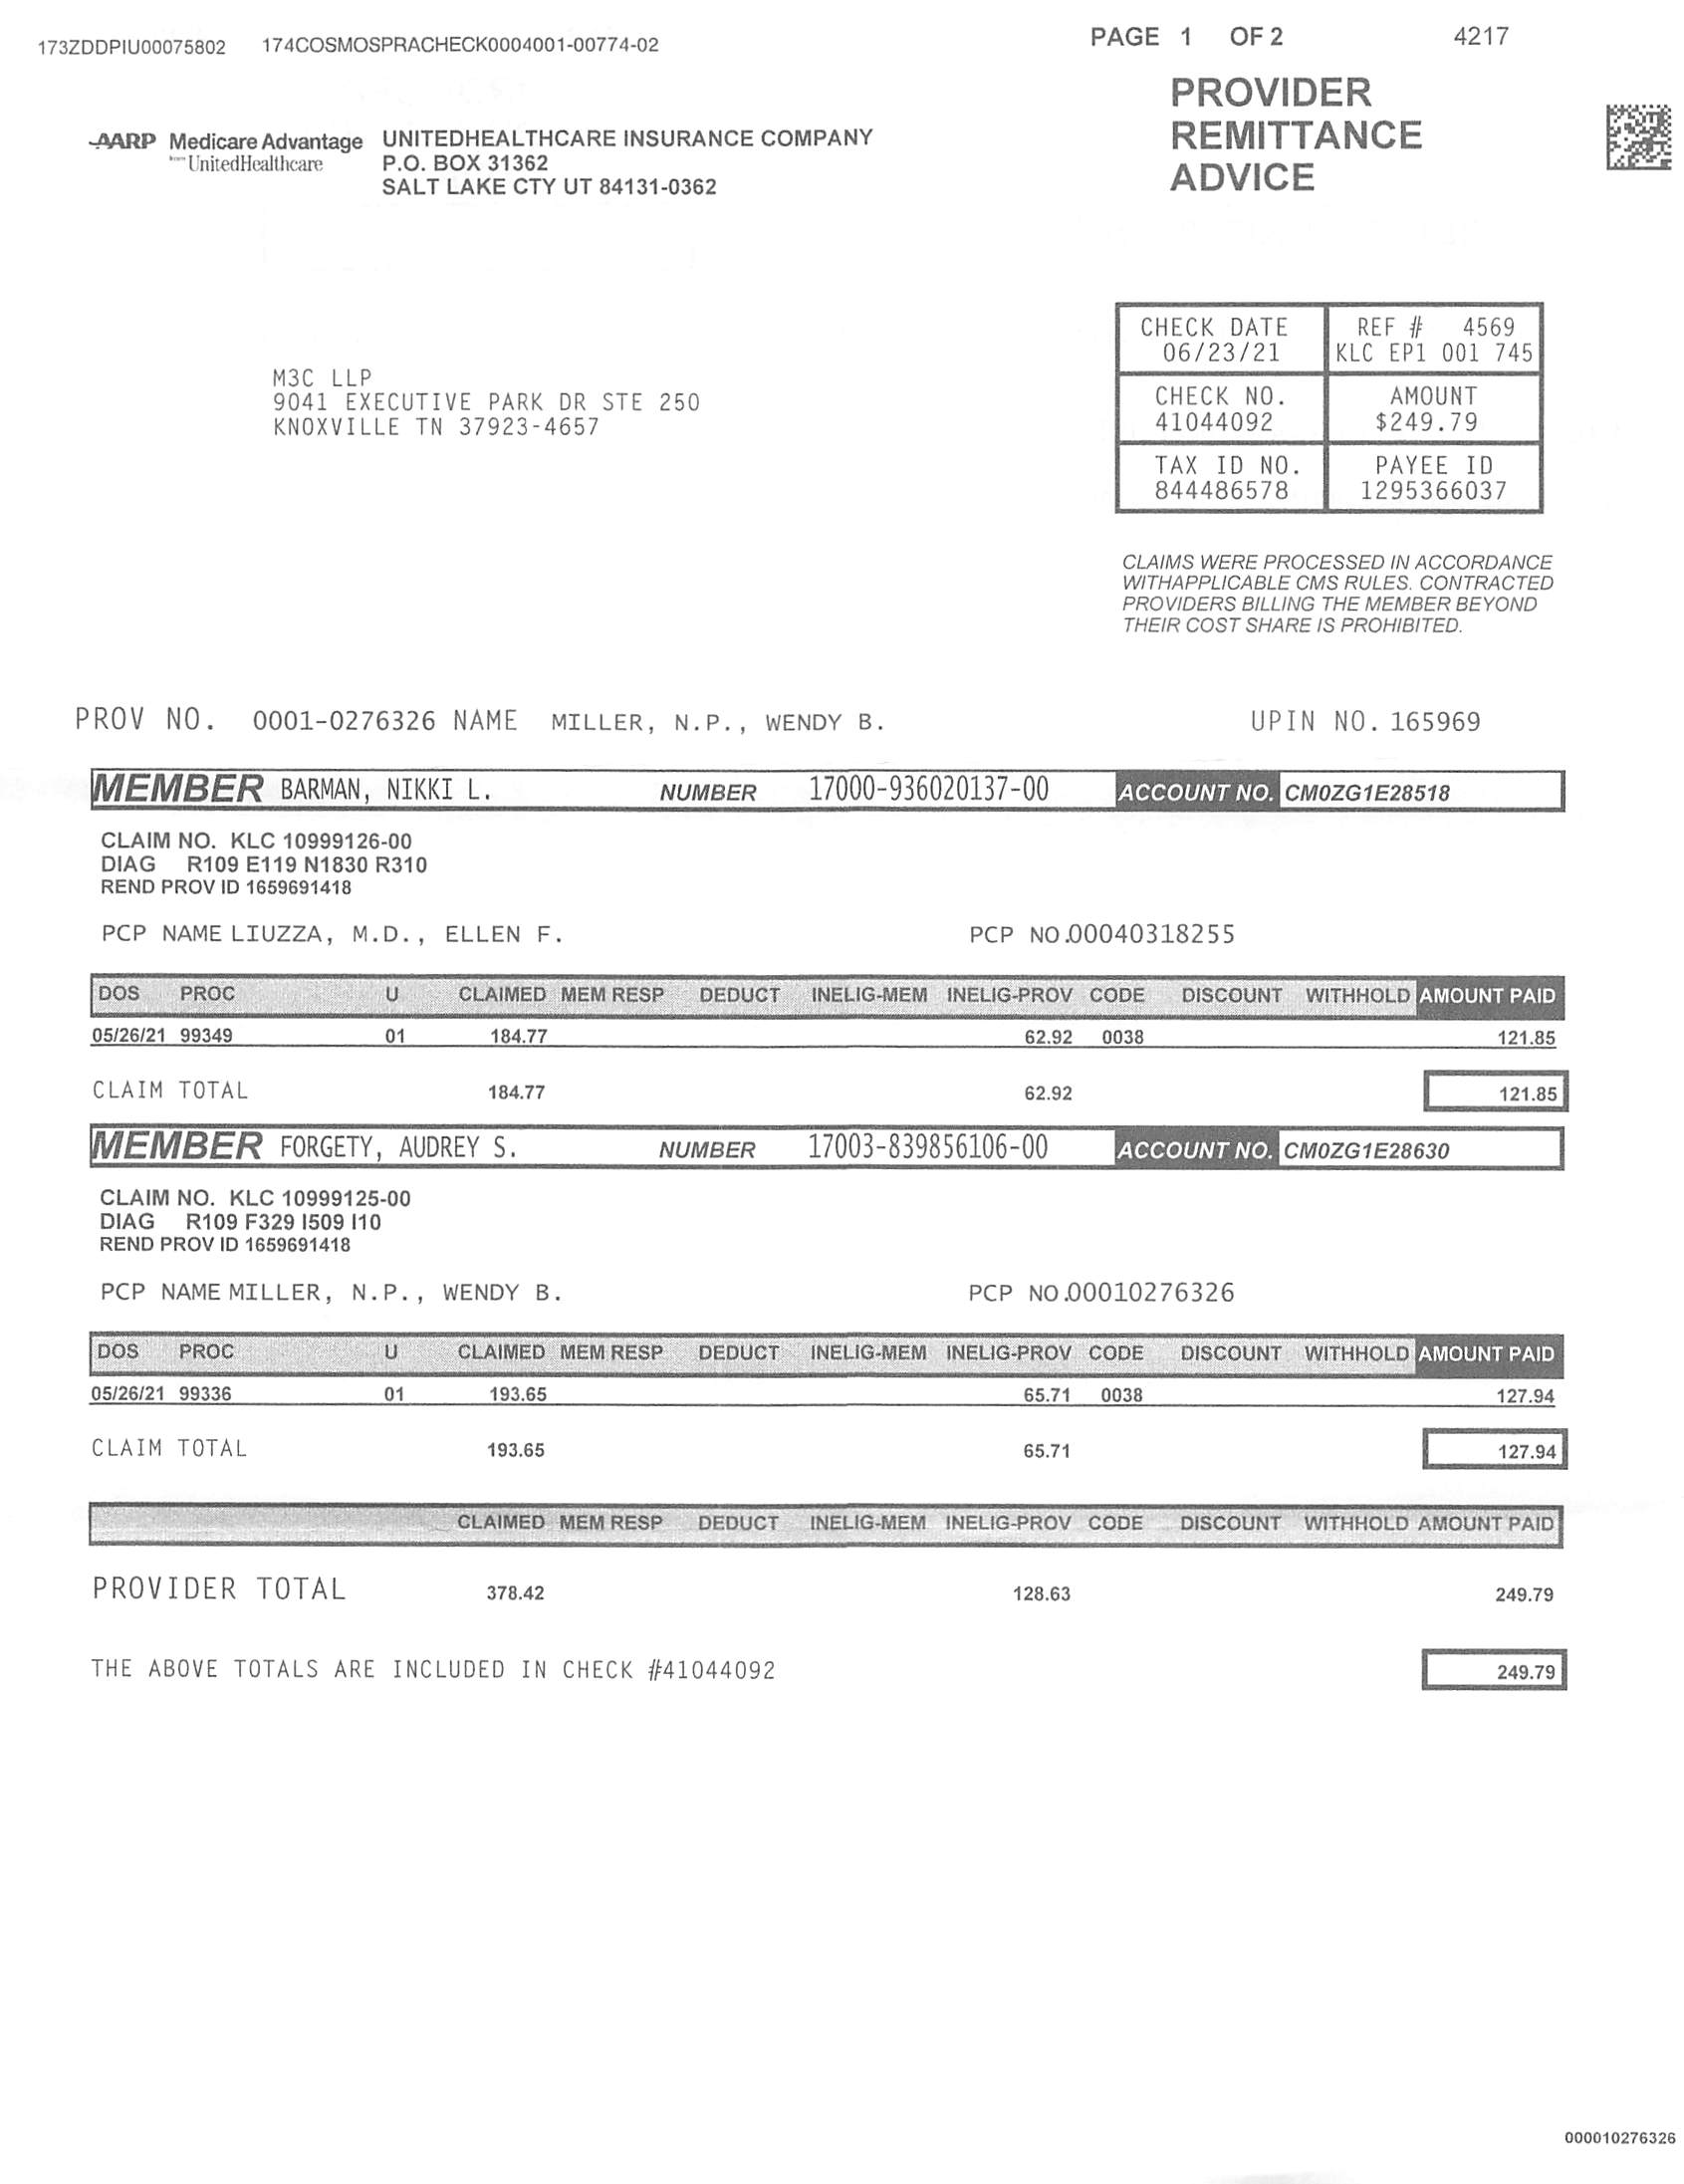data: (76, 1111, 1580, 1185), (76, 752, 1573, 824), (244, 327, 738, 460), (83, 1176, 439, 1280), (85, 819, 451, 918)
table: (69, 1477, 1592, 1629), (74, 962, 1585, 1065), (74, 1314, 1580, 1417), (1098, 295, 1553, 529)
